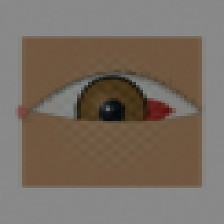hemorrhage_spot: (108, 82, 180, 139)
